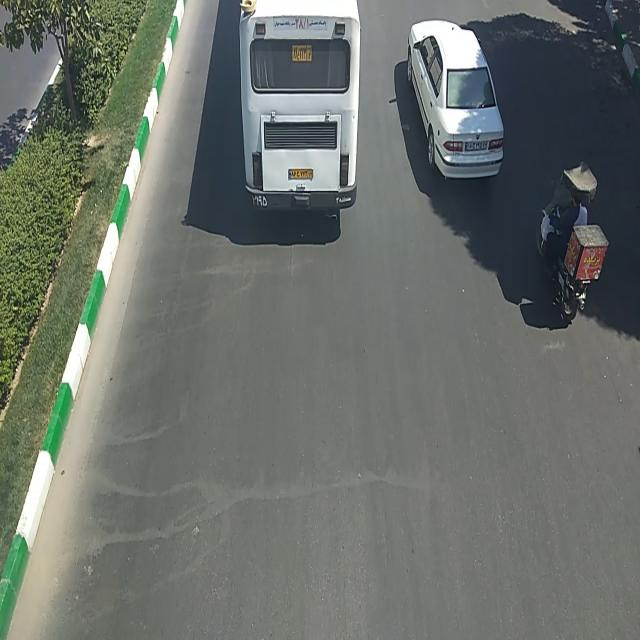bus: (238, 2, 364, 226)
car: (406, 18, 506, 199)
motor: (536, 162, 605, 332)
